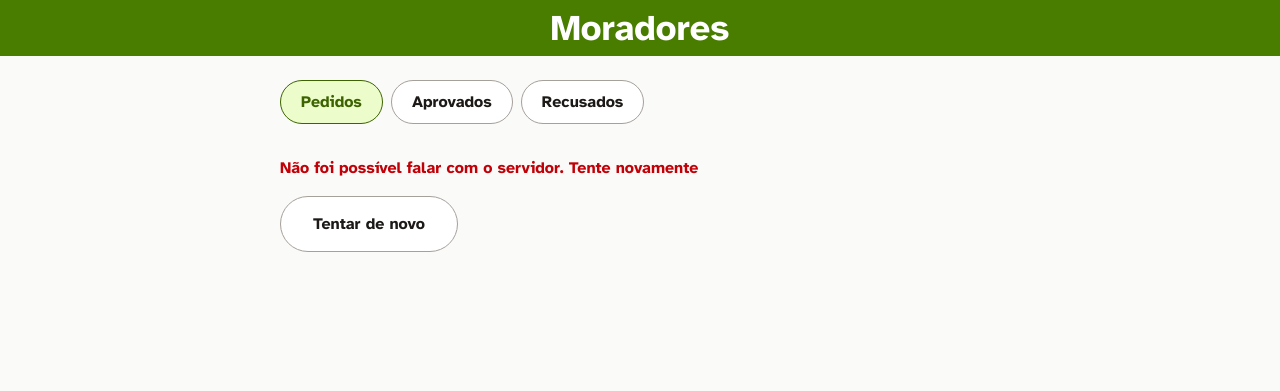
it: Residents › asks to try again when the server cannot be reached
The width and height of the screenshot is (1280, 391).
Expected: the message shows "Não foi possível falar", [280,158,698,178]
Step 1. Click the button "Tentar de novo" → (369, 224), box [280,196,458,252]
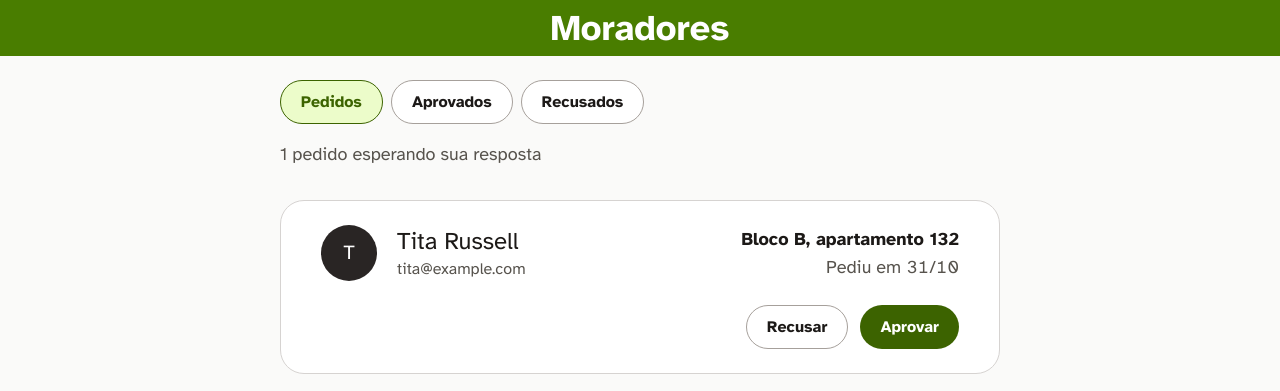
Result: the list item "Tita Russell" is shown at [280,200,1000,374]
